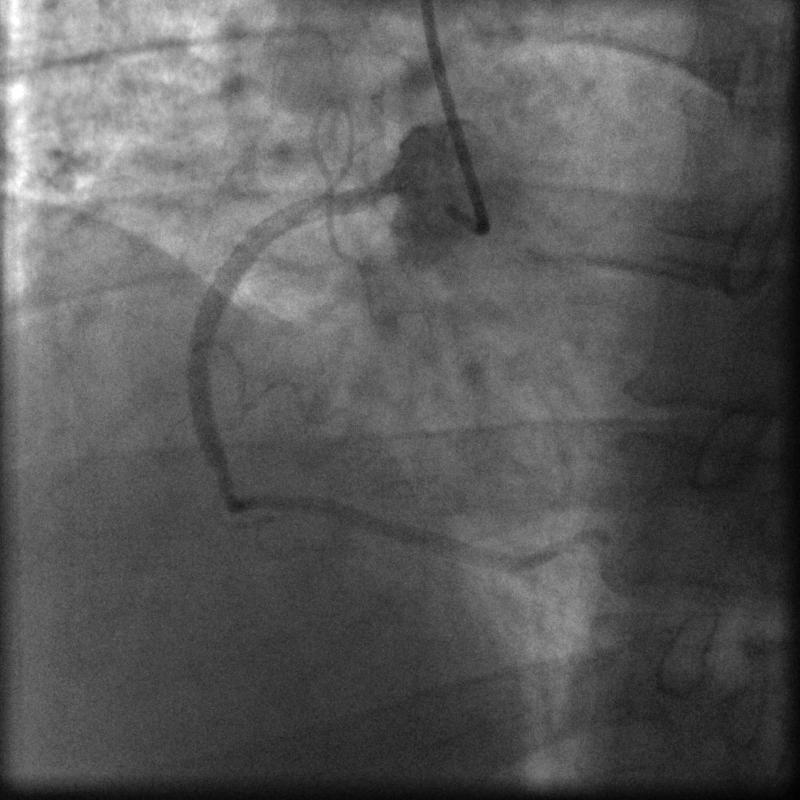Stenosis: (198, 435, 237, 516)
